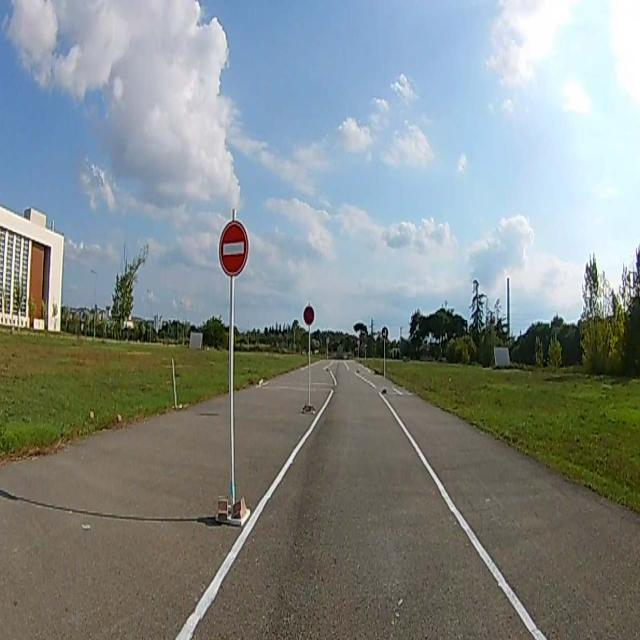girisyok: (218, 221, 249, 276)
